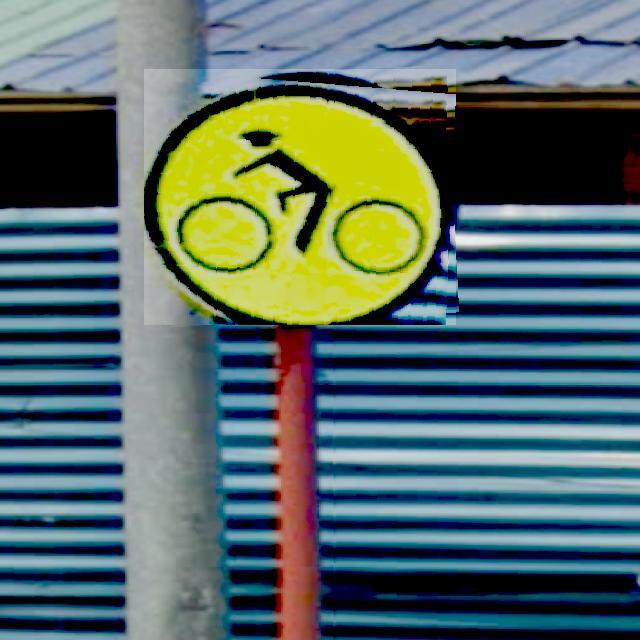bike lane: (144, 69, 456, 325)
